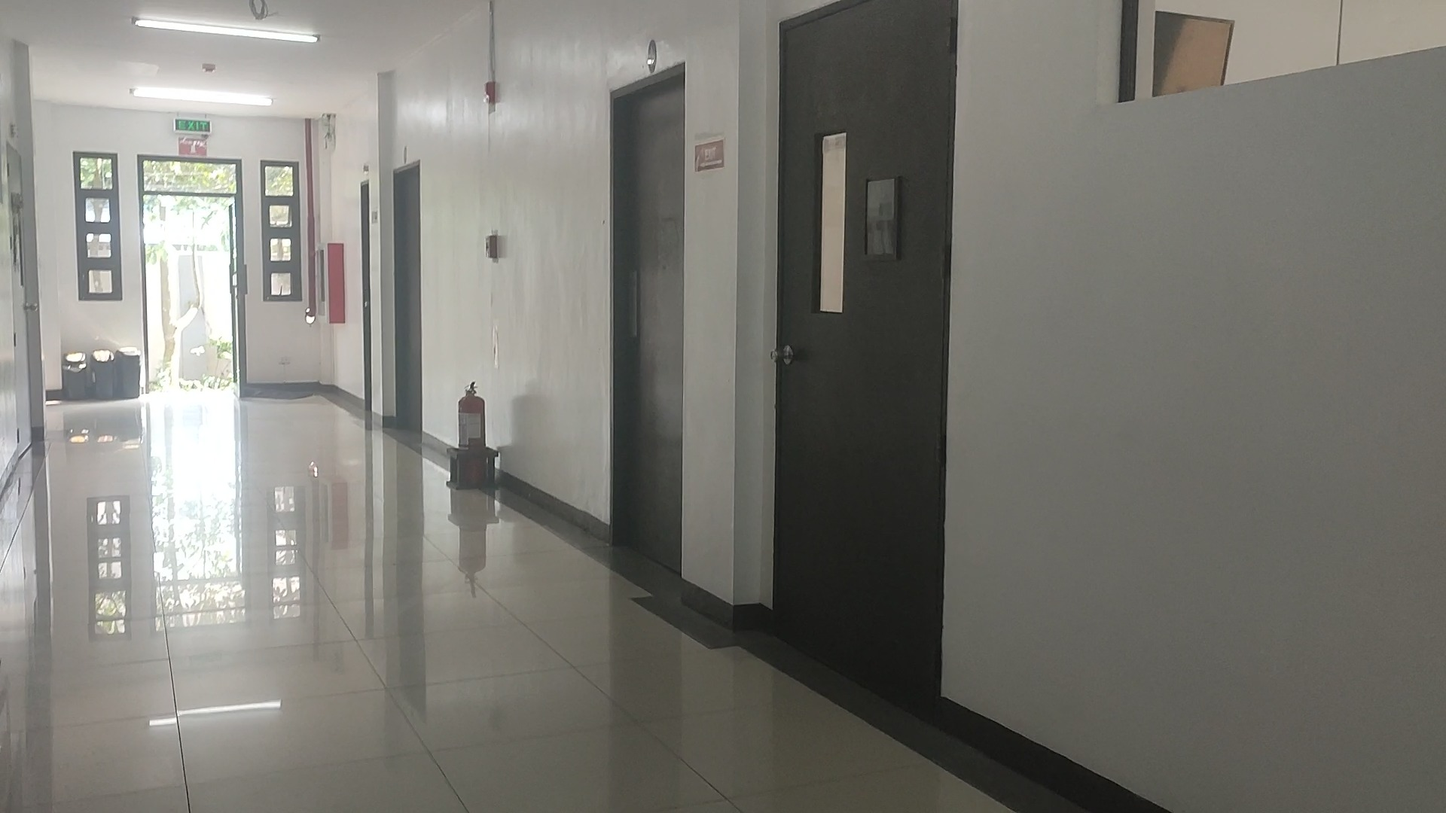door: (770, 0, 957, 714), (606, 62, 684, 577)
